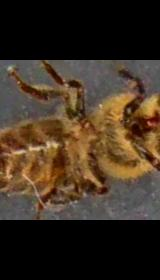varroa_mite: (80, 118, 94, 132)
